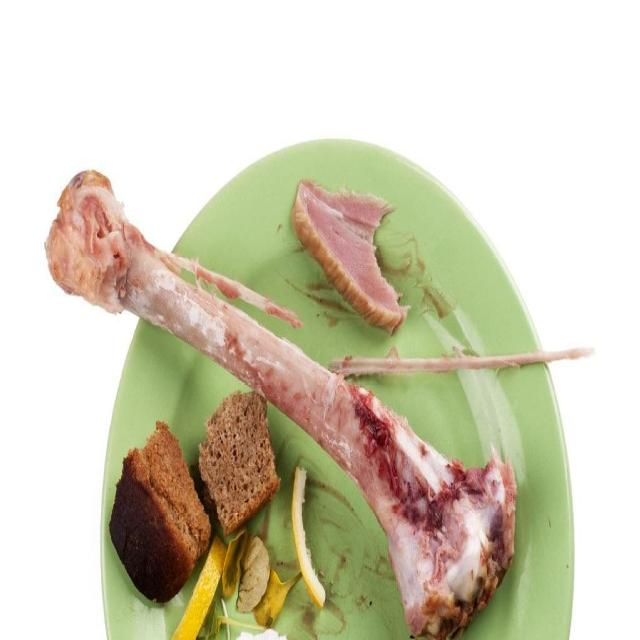Wet: (173, 536, 231, 639), (290, 464, 328, 610)
